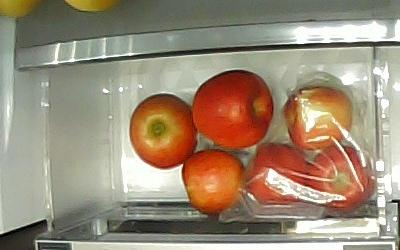apple: (190, 68, 274, 149), (128, 92, 198, 169), (180, 147, 246, 214)
apple_vinyl: (281, 83, 353, 150), (308, 144, 374, 212), (244, 140, 311, 206)
